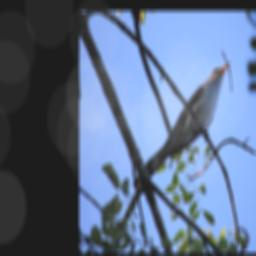Cuckoo: (144, 60, 232, 175)
